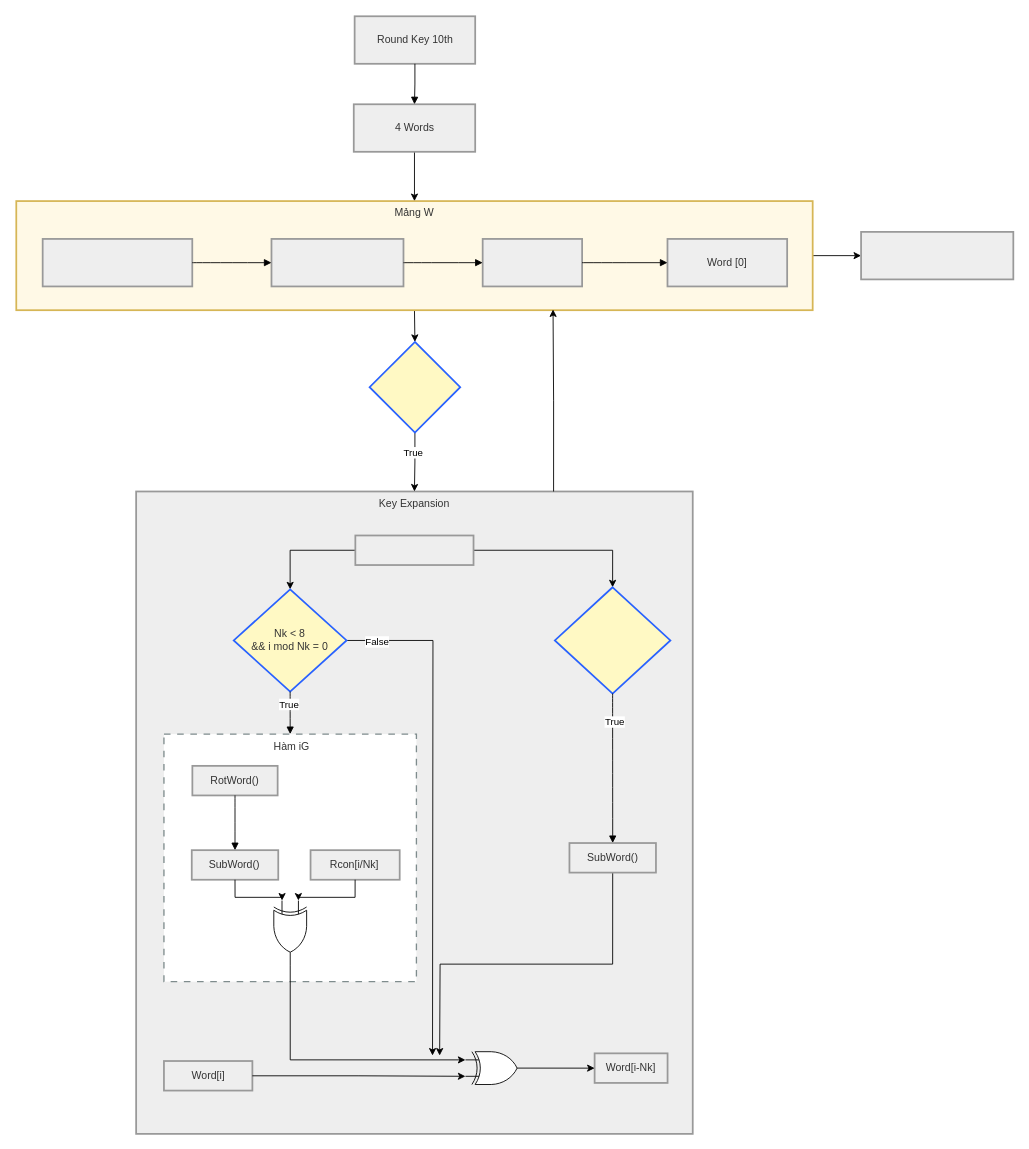
This 1029x1149 diagram has some shape labels left out. The centre of each missing label's shape, as x and y in pixels:
"...Word [i]..." goes at (x=337, y=262).
"[Nr] Round Keys" goes at (x=937, y=255).
"i >= 4" goes at (x=414, y=387).
"Nk = 8 && i mod nk = 4" goes at (x=612, y=640).
"temp = Word[i-1]" goes at (x=414, y=549).
"Word [1]" goes at (x=532, y=262).
"Word [Nb x (Nr+1)-1]" goes at (x=117, y=262).
